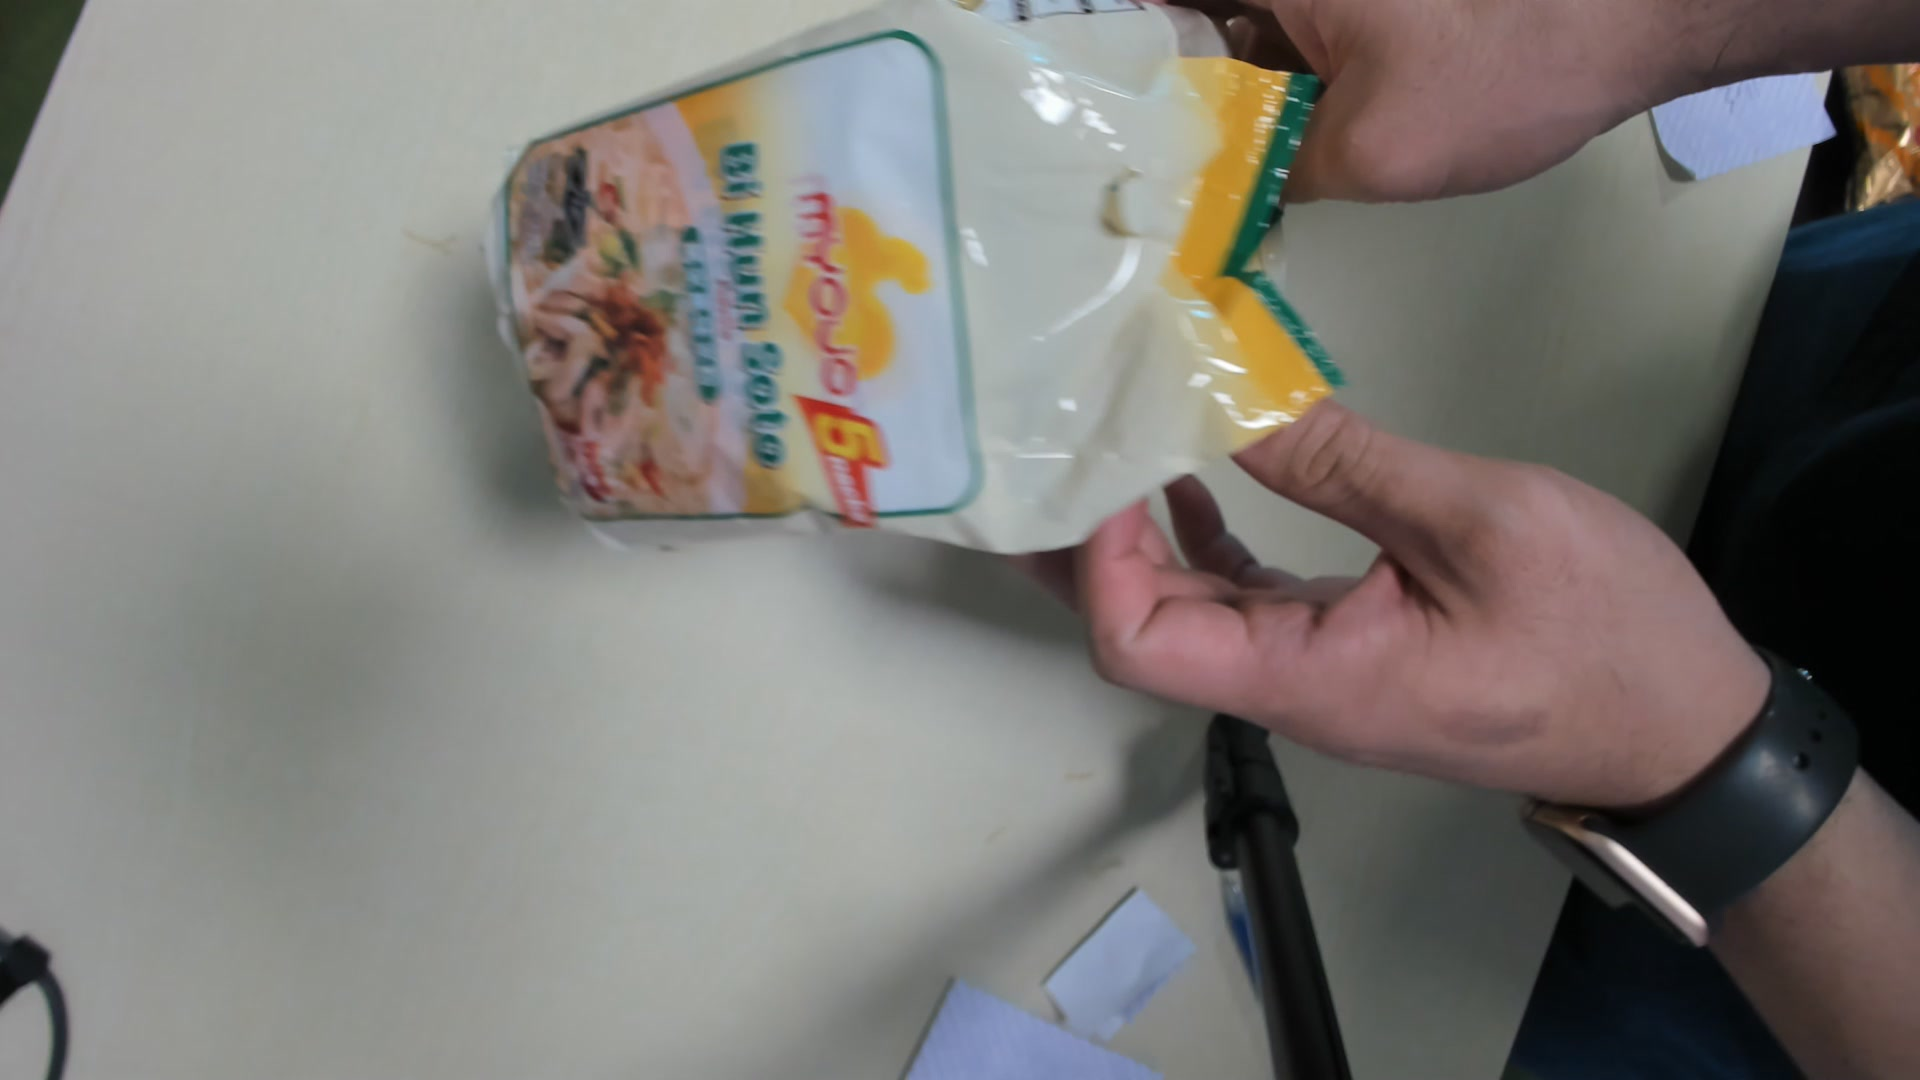OtherNoodles_400-499g_Halal_NonHealthy: (488, 7, 1344, 556)
